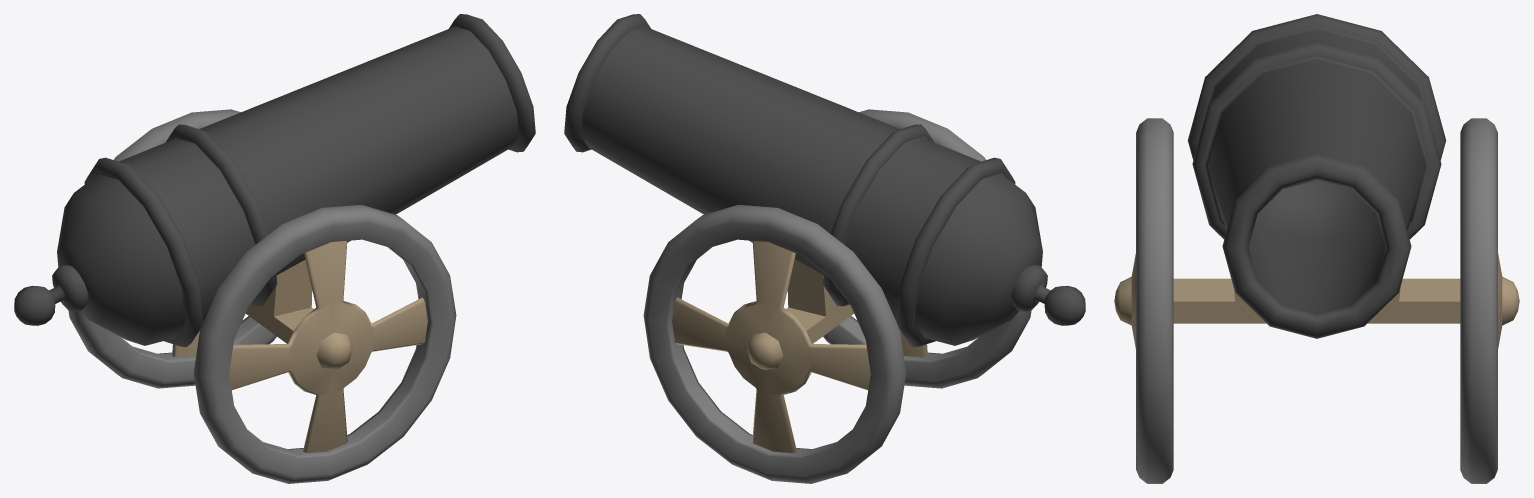
Rendered from Cannon1.fbx.
3 views of the same model, side by side, from view 1: azimuth 30°, elevation 25°; view 2: azimuth 150°, elevation 25°; view 3: azimuth 270°, elevation 25° (orthographic). The views are drawn at different scales.
Visible parts, largest first — view 1: pCylinder7, pCylinder9, pCube1; view 2: pCylinder7, pCylinder9, pCube1; view 3: pCylinder7, pCylinder9, pCube1.
Boxes of the visible parts, left/top/right/bottom form: pCylinder7: left=14, top=14, right=535, bottom=347; pCylinder9: left=68, top=109, right=456, bottom=483; pCube1: left=245, top=259, right=313, bottom=343; pCylinder7: left=564, top=14, right=1085, bottom=347; pCylinder9: left=643, top=109, right=1031, bottom=483; pCube1: left=786, top=259, right=854, bottom=343; pCylinder7: left=1187, top=14, right=1446, bottom=338; pCylinder9: left=1114, top=118, right=1519, bottom=483; pCube1: left=1173, top=278, right=1460, bottom=323.
Bounding box in the file's own units: 13.07 × 9.04 × 7.45.
